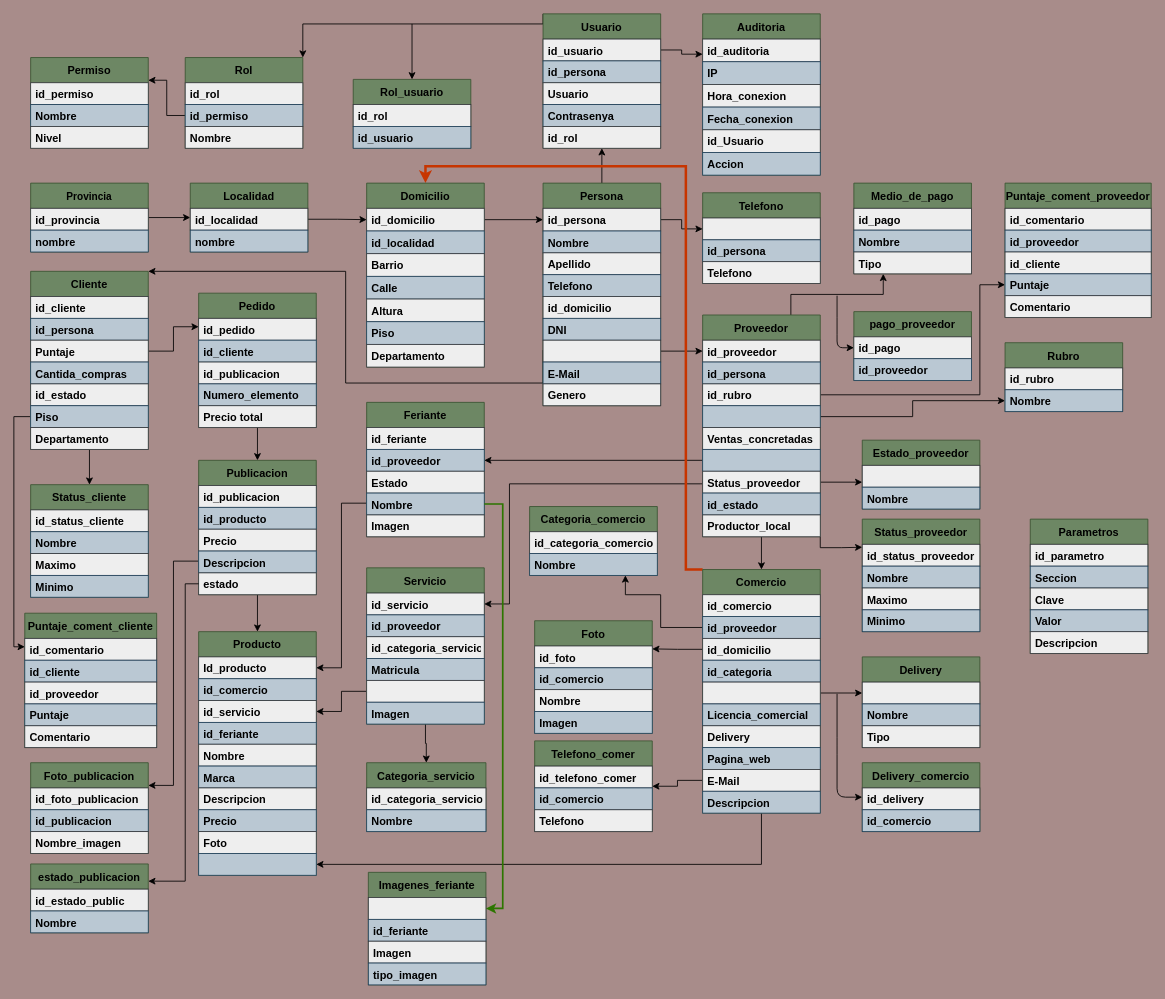
The diagram is 1165 pixels wide and 999 high, and some of its shapes have lost their labels. The shapes that lost their labels are listed below. From the top down, each one's centre as x and y in pixels, then its label:
the point at 761,228: id_telefono
the point at 601,350: Fecha_nacimiento
the point at 761,416: Cuil_cuit
the point at 761,460: Suma_puntaje
the point at 920,476: id_estado_proveedor
the point at 425,691: Nombre_fantacia
the point at 761,692: Nombre_comercio
the point at 920,692: id-delivery
the point at 257,864: Producto local
the point at 427,908: id_imagen_feriante
